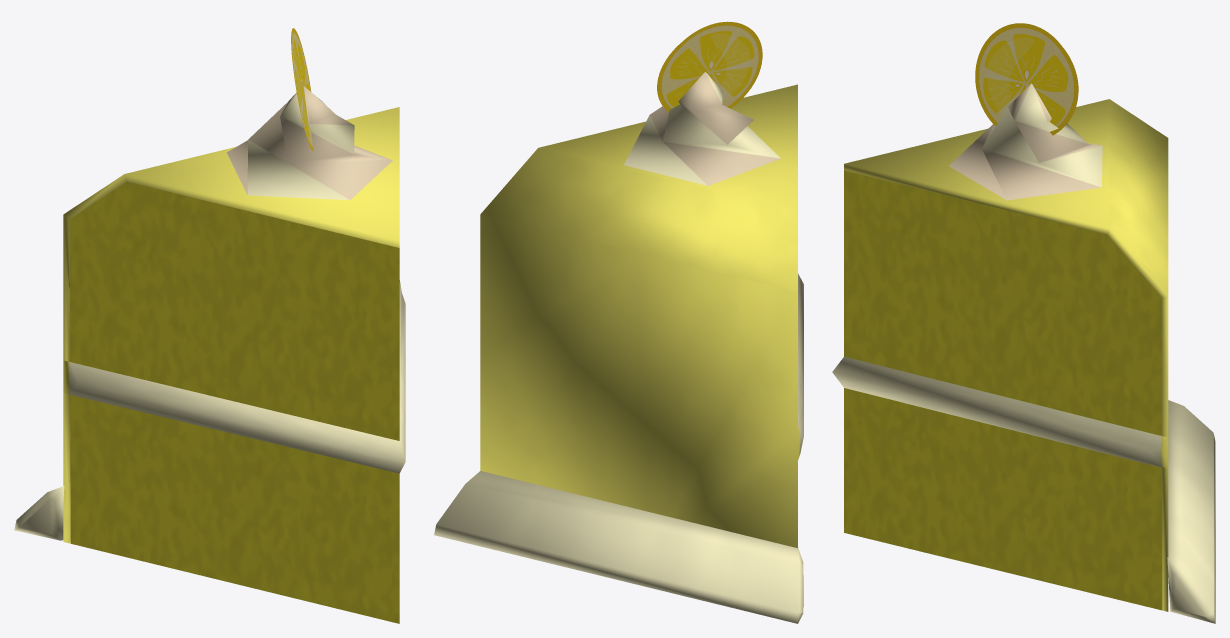
The model's file is Cake_Slice_A_6.FBX.
3 views of the same model, side by side, from view 1: azimuth 30°, elevation 25°; view 2: azimuth 150°, elevation 25°; view 3: azimuth 270°, elevation 25° (orthographic). The views are drawn at different scales.
Visible parts, largest first — view 1: Cake_03; view 2: Cake_03; view 3: Cake_03.
Boxes of the visible parts, x1=… form: Cake_03: x1=14, y1=28, x2=405, y2=623; Cake_03: x1=434, y1=21, x2=803, y2=623; Cake_03: x1=832, y1=23, x2=1215, y2=623.
Size of the model in its own units: 58.57 by 76.29 by 52.35.
